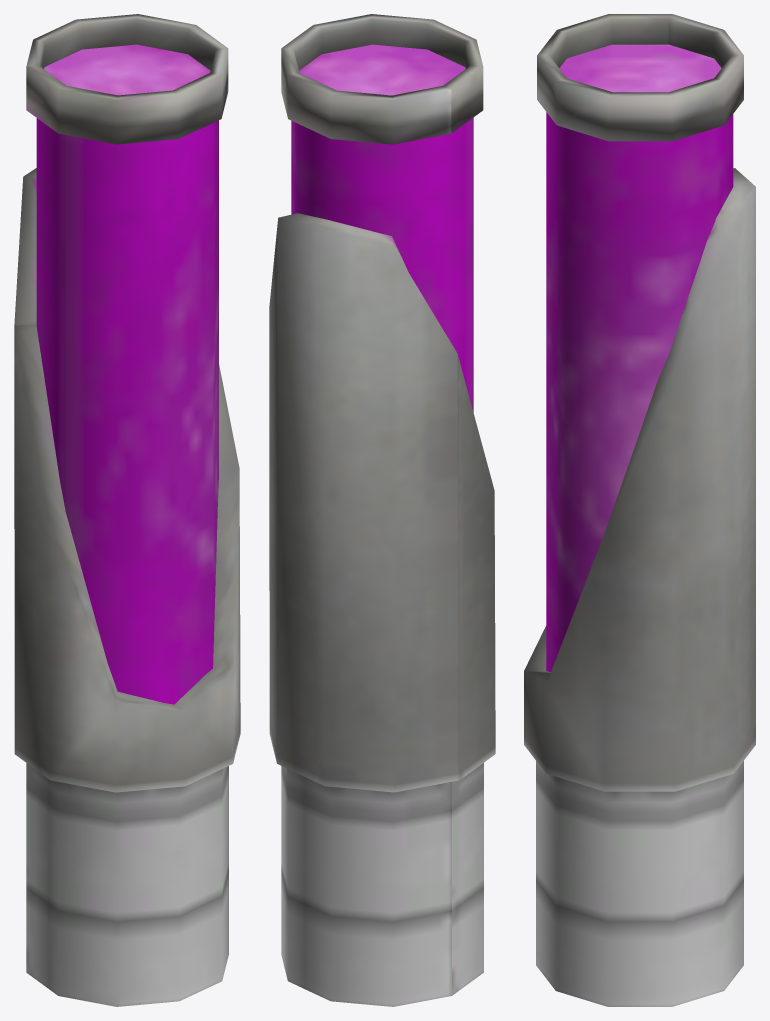
The model's file is Glass01.FBX.
The picture shows the model from 3 angles, left to right: view 1: azimuth 30°, elevation 25°; view 2: azimuth 150°, elevation 25°; view 3: azimuth 270°, elevation 25°; orthographic projection.
Visible parts, largest first — view 1: Glass01; view 2: Glass01; view 3: Glass01.
Boxes of the visible parts, x1,y1,x2,y2 form: Glass01: (14,14,240,1006); Glass01: (269,14,495,1006); Glass01: (524,14,755,1006).
Bounding box in the file's own units: 0.0395 × 0.1788 × 0.0413.
